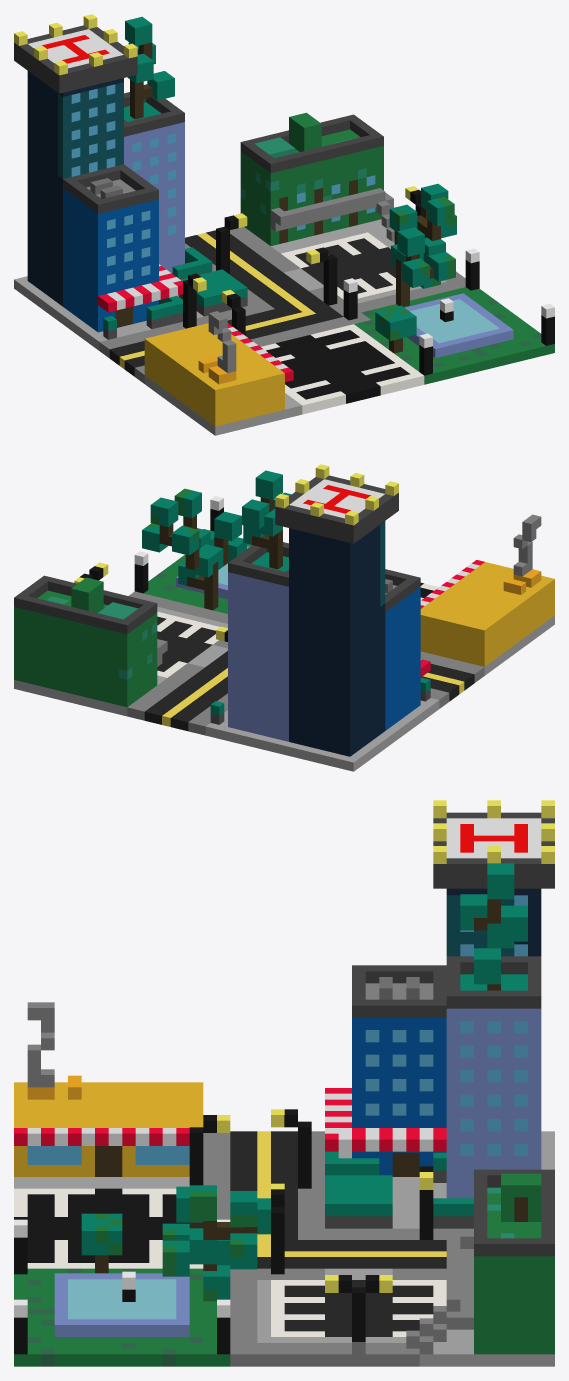
File: mini-city.glb
3 views of the same model, one above another, from view 1: azimuth 30°, elevation 25°; view 2: azimuth 150°, elevation 25°; view 3: azimuth 270°, elevation 25° (orthographic). The views are drawn at different scales.
Visible parts, largest first — view 1: Object_2; view 2: Object_2; view 3: Object_2.
Part boxes in pixels (x1,y1,x2,y2): Object_2: (14,14,554,435); Object_2: (14,464,554,771); Object_2: (14,800,554,1366).
Bounding box in the file's own units: 39 × 28 × 40.
Materials: 1 (1 with a texture image).
